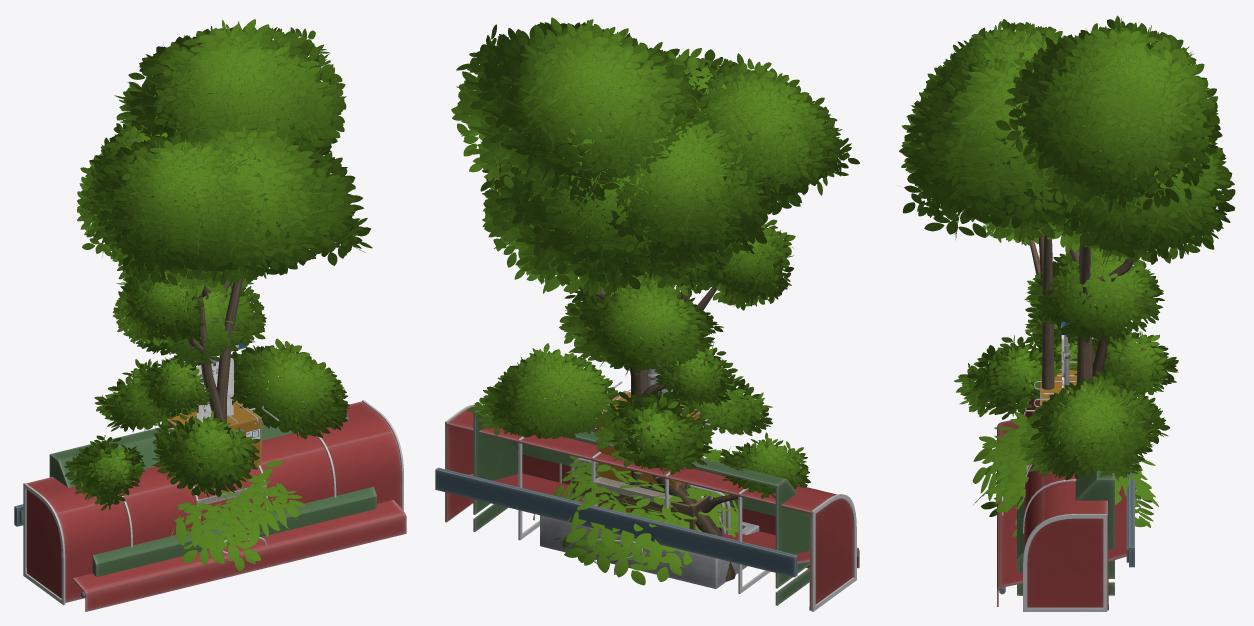
File: japan.glb
3 views of the same model, side by side, from view 1: azimuth 30°, elevation 25°; view 2: azimuth 150°, elevation 25°; view 3: azimuth 270°, elevation 25° (orthographic). The views are drawn at different scales.
Visible parts, largest first — view 1: jp_tree_tall_01, jp_tree_garden, jp_tree_tall_02, jp_sunscreen_shop_01, jp_sunscreen_shop_04, jp_sunscreen_shop_03, jp_bush_01, jp_vendingmachine_bottles_01; view 2: jp_tree_tall_01, jp_tree_garden, jp_tree_tall_02, jp_sunscreen_shop_01, jp_sunscreen_shop_04, jp_bush_01, jp_sunscreen_shop_03, jp_wall_flowerbed, jp_table_01, jp_vendingmachine_bottles_01, jp_table_shop; view 3: jp_tree_tall_01, jp_tree_tall_02, jp_tree_garden, jp_sunscreen_shop_01, jp_bush_01, jp_sunscreen_shop_04, jp_sunscreen_shop_03.
Boxes of the visible parts, box(x1,y1,x2,y2) form: jp_tree_tall_01: box(77, 19, 346, 412); jp_tree_garden: box(64, 278, 349, 510); jp_tree_tall_02: box(109, 104, 372, 423); jp_sunscreen_shop_01: box(23, 400, 403, 605); jp_sunscreen_shop_04: box(14, 500, 406, 611); jp_sunscreen_shop_03: box(49, 390, 376, 577); jp_bush_01: box(170, 460, 306, 571); jp_vendingmachine_bottles_01: box(166, 400, 261, 467); jp_tree_tall_01: box(451, 17, 859, 512); jp_tree_garden: box(467, 277, 810, 581); jp_tree_tall_02: box(480, 48, 802, 310); jp_sunscreen_shop_01: box(445, 404, 856, 611); jp_sunscreen_shop_04: box(435, 467, 859, 577); jp_bush_01: box(553, 449, 738, 585); jp_sunscreen_shop_03: box(473, 405, 809, 605); jp_wall_flowerbed: box(540, 515, 759, 588); jp_table_01: box(594, 477, 672, 518); jp_vendingmachine_bottles_01: box(597, 390, 702, 522); jp_table_shop: box(572, 467, 714, 529); jp_tree_tall_01: box(908, 15, 1222, 383); jp_tree_tall_02: box(899, 52, 1235, 389); jp_tree_garden: box(954, 247, 1178, 480); jp_sunscreen_shop_01: box(1023, 350, 1108, 611); jp_bush_01: box(972, 412, 1158, 536); jp_sunscreen_shop_04: box(997, 391, 1134, 606); jp_sunscreen_shop_03: box(1017, 336, 1114, 595).
Bounding box in the file's own units: 5.55 × 7.74 × 4.68.
Materials: 58 (46 with a texture image).
